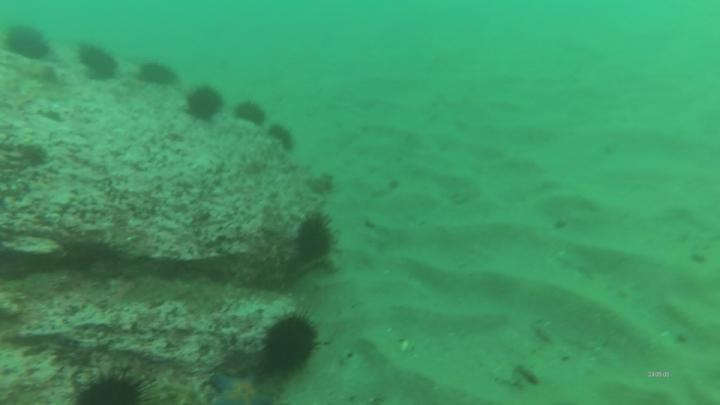echinus: (267, 318, 319, 370), (77, 378, 140, 405), (7, 26, 50, 62), (298, 219, 334, 259), (79, 43, 116, 81), (187, 84, 223, 118), (237, 101, 266, 125), (271, 125, 296, 152), (143, 63, 174, 84)
starfish: (208, 369, 271, 405)
